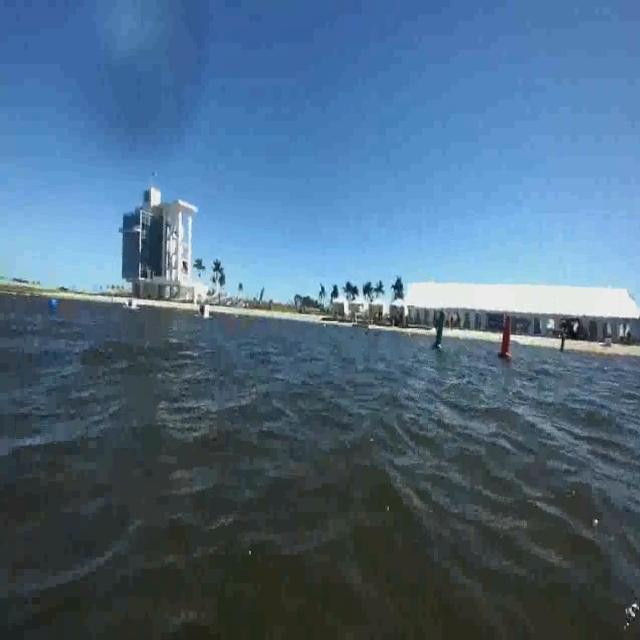blue-buoy: (48, 287, 59, 307)
green-column-buoy: (434, 304, 449, 356)
red-column-buoy: (500, 311, 514, 367)
